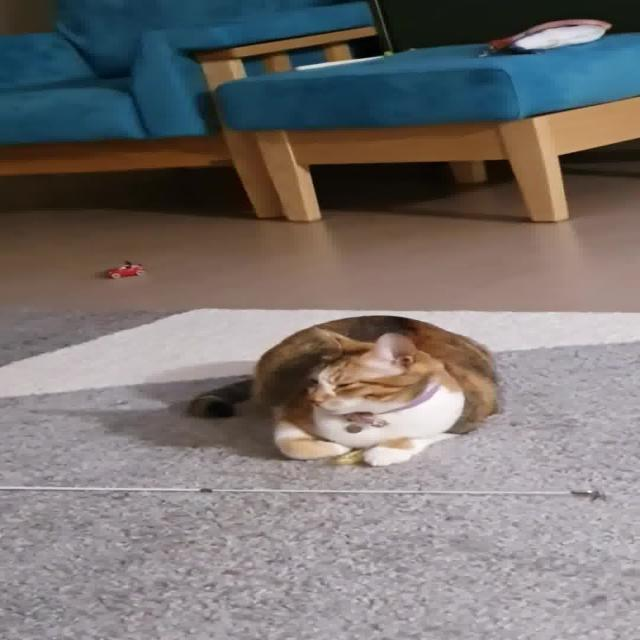cat: (180, 314, 512, 466)
